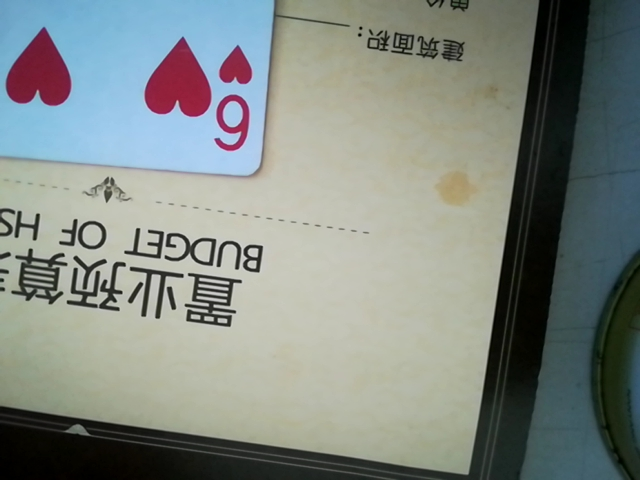hx 6: (0, 1, 290, 176)
